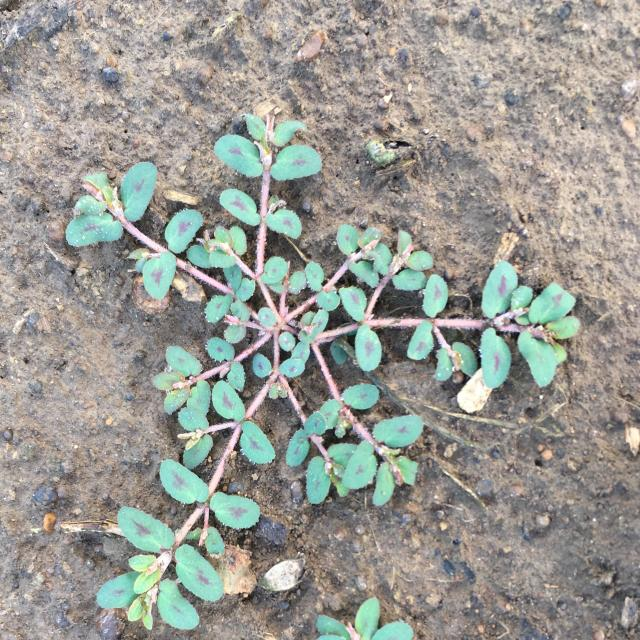SpottedSpurge: (66, 113, 580, 630), (315, 597, 414, 640)
